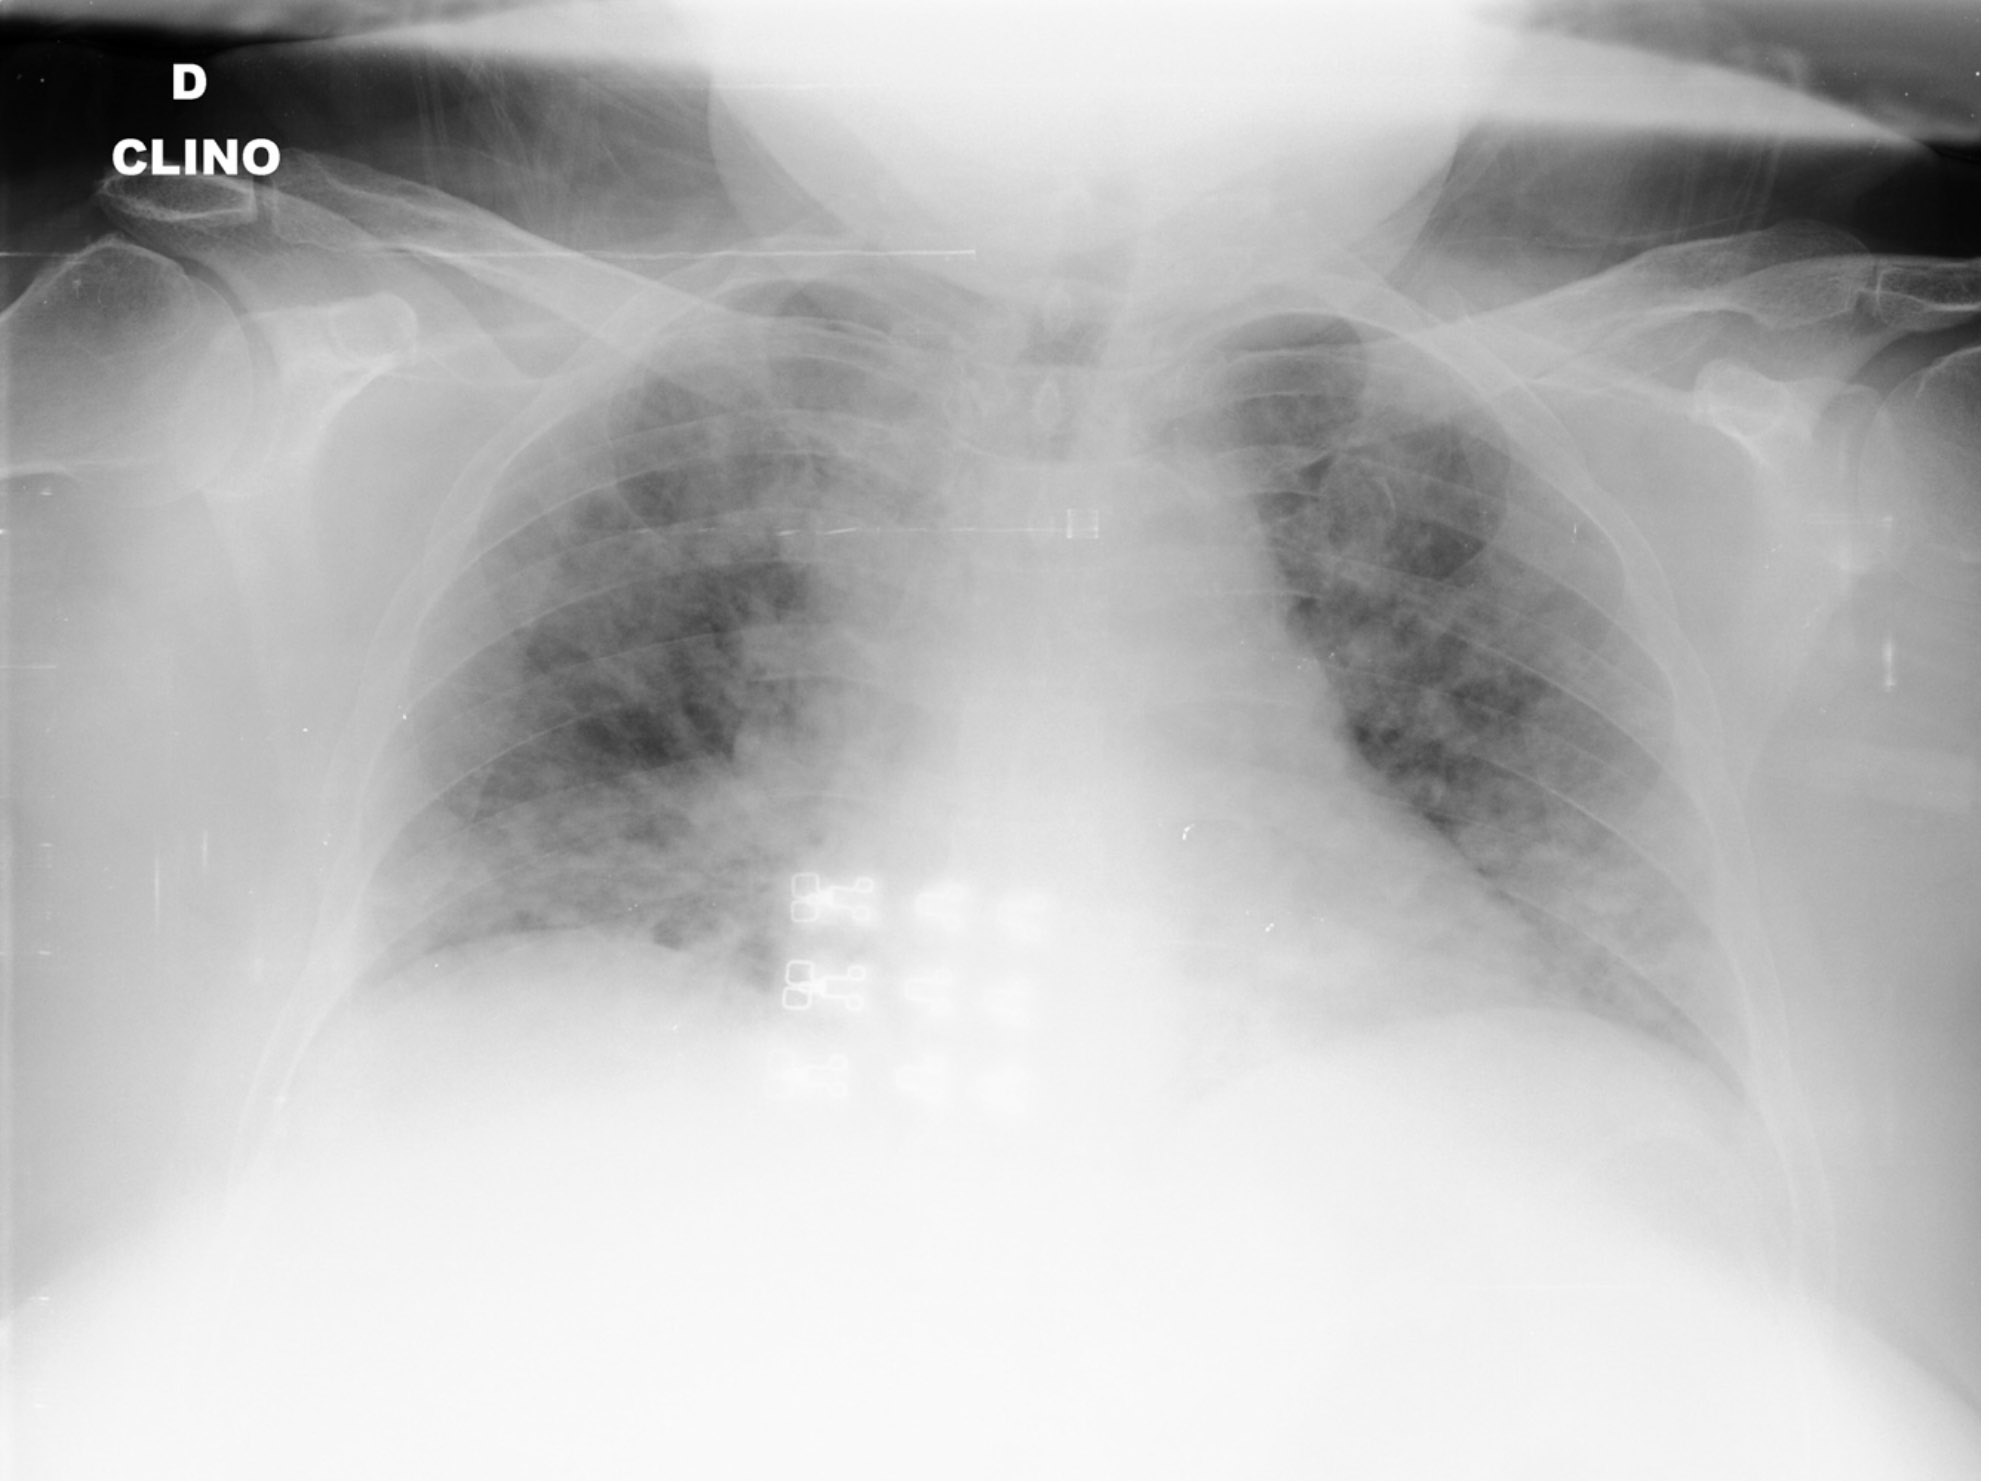Severe: (367, 230, 971, 995), (1166, 304, 1748, 1055)
